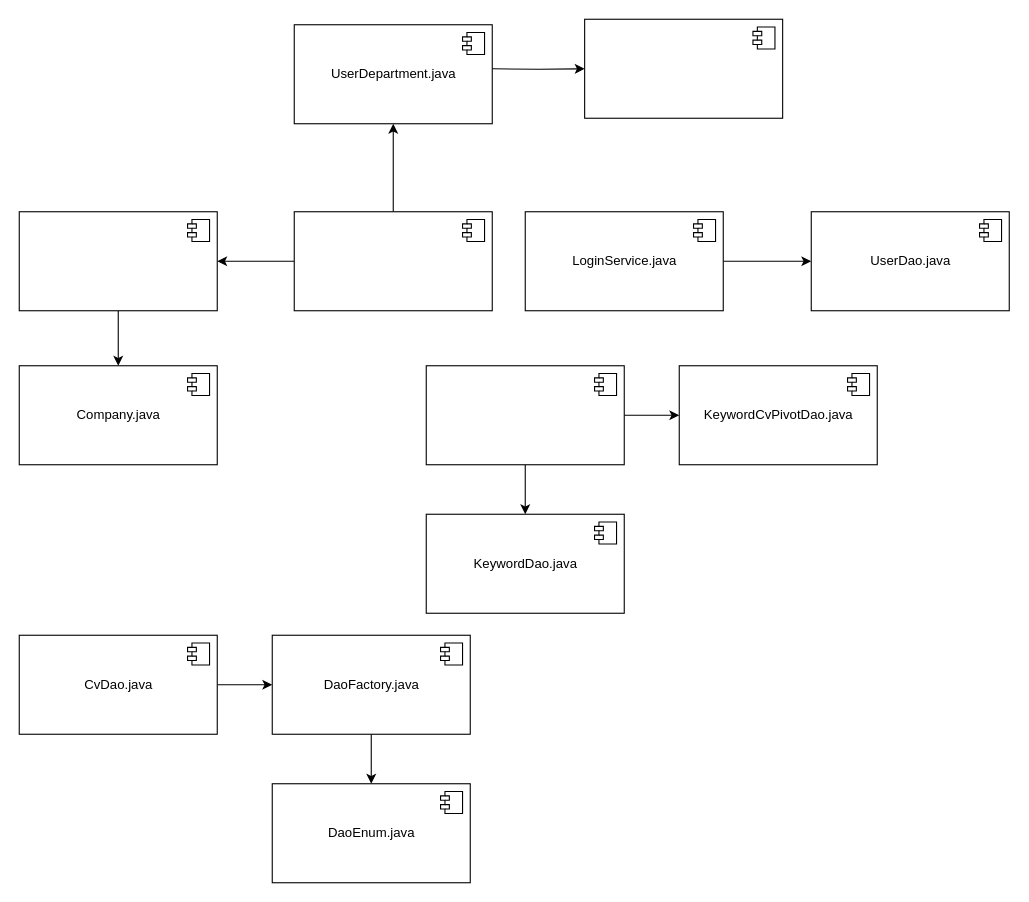
The diagram is 1029 pixels wide and 902 high, and some of its shapes have lost their labels. The centre of each missing label's shape, as x and y in pixels:
Department.java: pixel 683 68
KeywordCvPivotService.java: pixel 524 415
User.java: pixel 392 261
UserCompany.java: pixel 117 261
